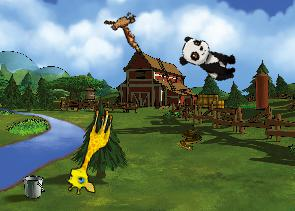eagle: (97, 3, 154, 55)
giraffe: (64, 104, 115, 198)
panda: (175, 33, 242, 85)
